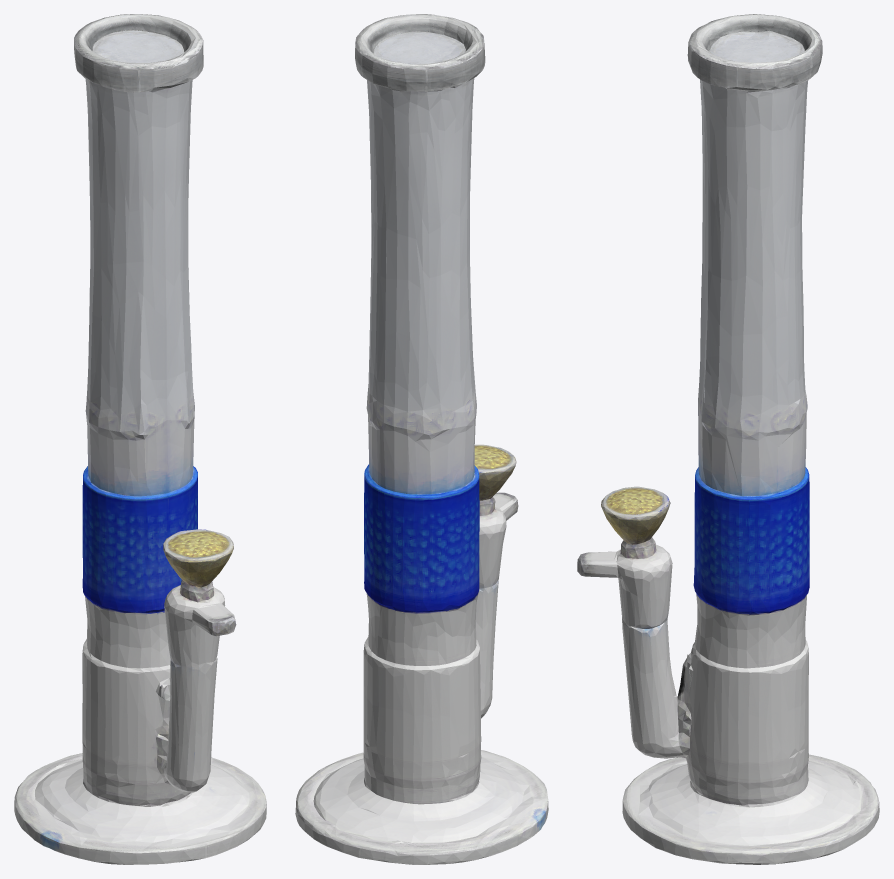
The model's file is bong.glb.
The picture shows the model from 3 angles, left to right: view 1: azimuth 30°, elevation 25°; view 2: azimuth 150°, elevation 25°; view 3: azimuth 270°, elevation 25°; orthographic projection.
Parts seen in each view (by area): view 1: world; view 2: world; view 3: world.
Boxes of the visible parts, x1,y1,x2,y2 form: world: [14, 14, 266, 864]; world: [295, 14, 548, 864]; world: [577, 14, 879, 864].
Size of the model in its own units: 0.2034 by 0.7001 by 0.2447.
1 material, 1 textured.
